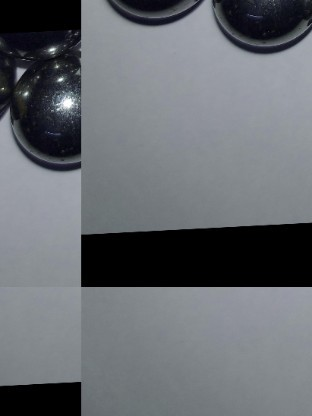ironball: (12, 44, 86, 170), (210, 0, 310, 58), (109, 0, 209, 27)
